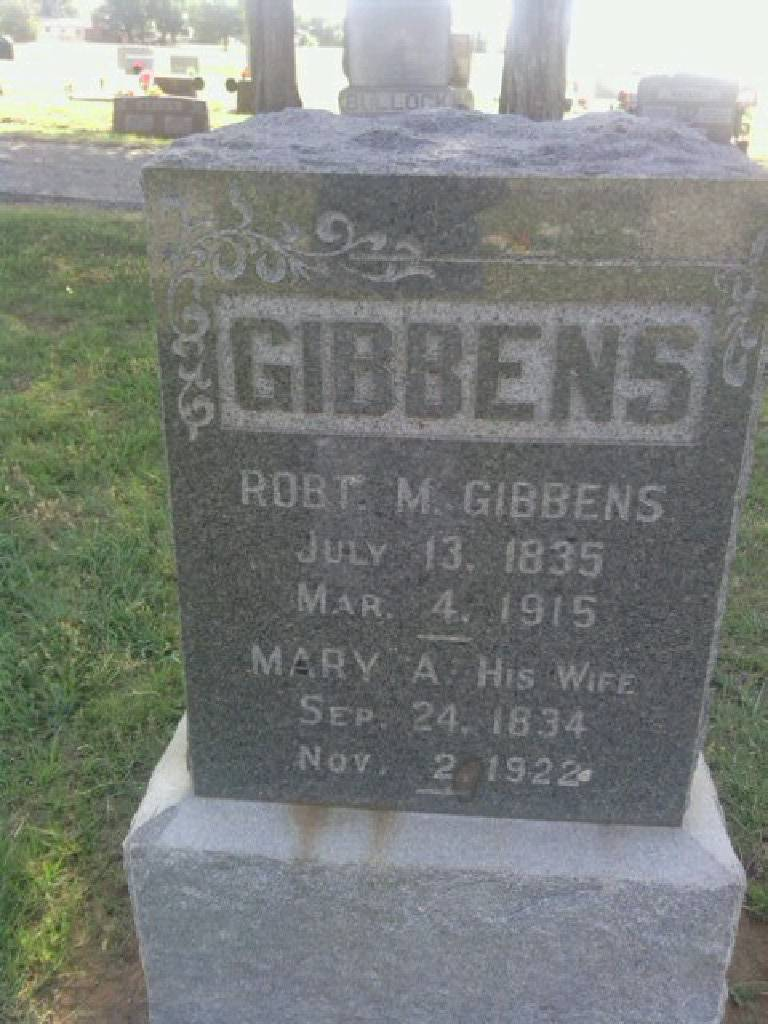upright: (80, 71, 761, 1004)
